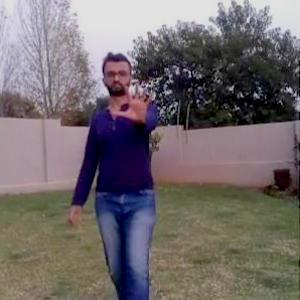follow_hand: (111, 76, 158, 126)
